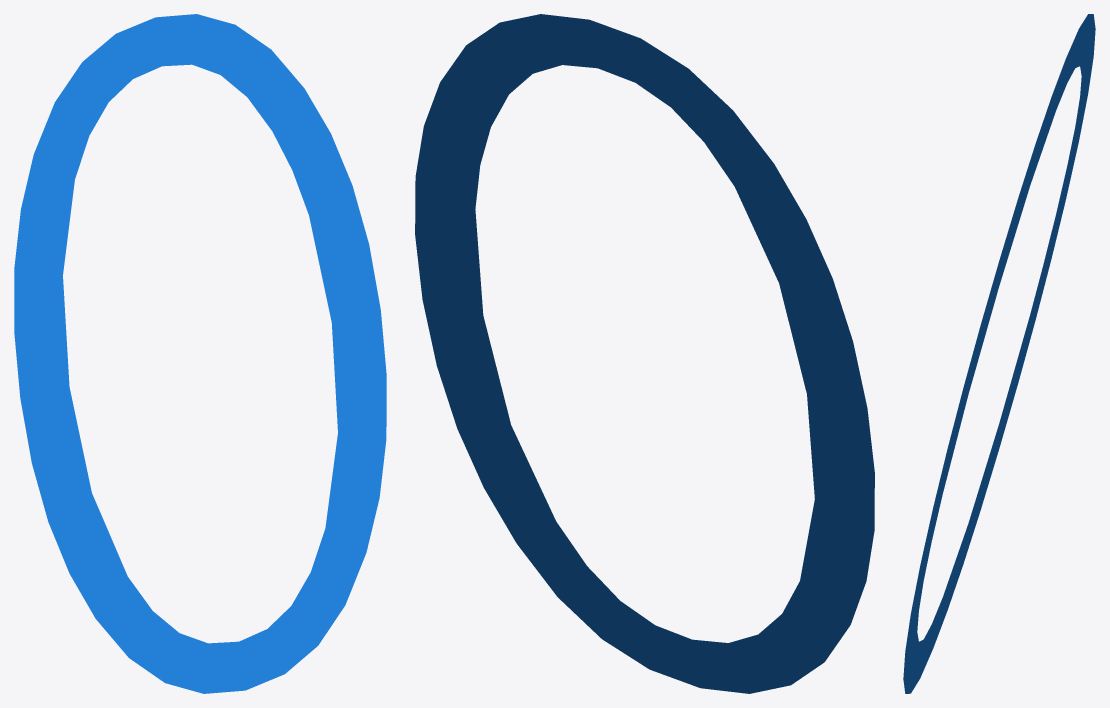
File: original-13.obj
3 renders of one model, left to right at view 1: azimuth 30°, elevation 25°; view 2: azimuth 150°, elevation 25°; view 3: azimuth 270°, elevation 25°, orthographic. The views are drawn at different scales.
Visible parts, largest first — view 1: mesh12/mesh12-geometry#mesh12-geometry; view 2: mesh12/mesh12-geometry#mesh12-geometry; view 3: mesh12/mesh12-geometry#mesh12-geometry.
Part boxes in pixels (x1=…): mesh12/mesh12-geometry#mesh12-geometry: x1=14, y1=14, x2=386, y2=693; mesh12/mesh12-geometry#mesh12-geometry: x1=415, y1=14, x2=874, y2=693; mesh12/mesh12-geometry#mesh12-geometry: x1=903, y1=14, x2=1095, y2=693.
Size of the model in its own units: 0.0499 by 0.0804 by 0.0215.
